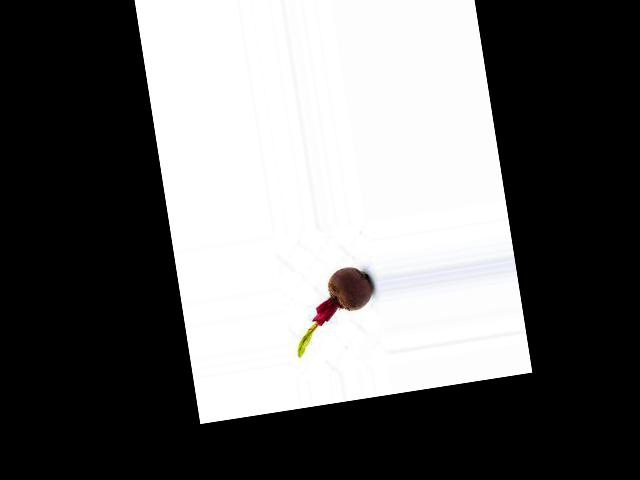beet: (286, 263, 380, 356)
